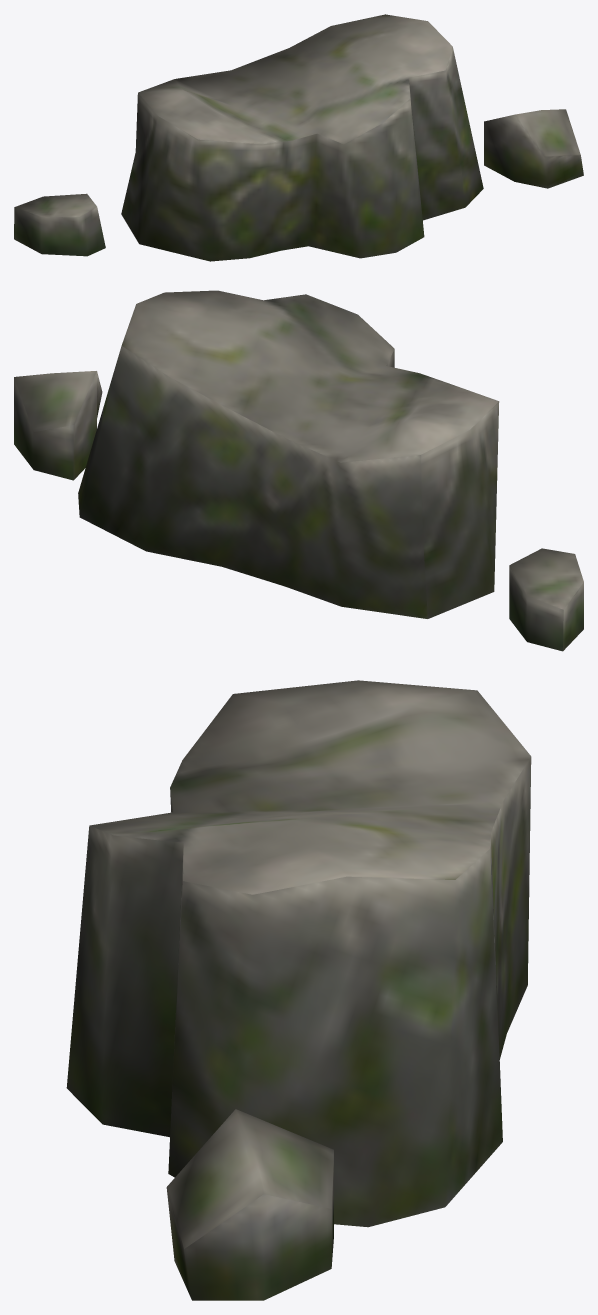
Rendered from Stage_ZhuCheng_HeShi02.FBX.
The picture shows the model from 3 angles, top to bottom: view 1: azimuth 30°, elevation 25°; view 2: azimuth 150°, elevation 25°; view 3: azimuth 270°, elevation 25°; orthographic projection. The views are drawn at different scales.
Parts seen in each view (by area): view 1: Stage_ZhuCheng_HeShi02; view 2: Stage_ZhuCheng_HeShi02; view 3: Stage_ZhuCheng_HeShi02.
Part boxes in pixels (x1,y1,x2,y2): Stage_ZhuCheng_HeShi02: [14, 14, 583, 261]; Stage_ZhuCheng_HeShi02: [14, 290, 583, 651]; Stage_ZhuCheng_HeShi02: [66, 680, 531, 1300].
Size of the model in its own units: 203 by 61.27 by 82.79.
